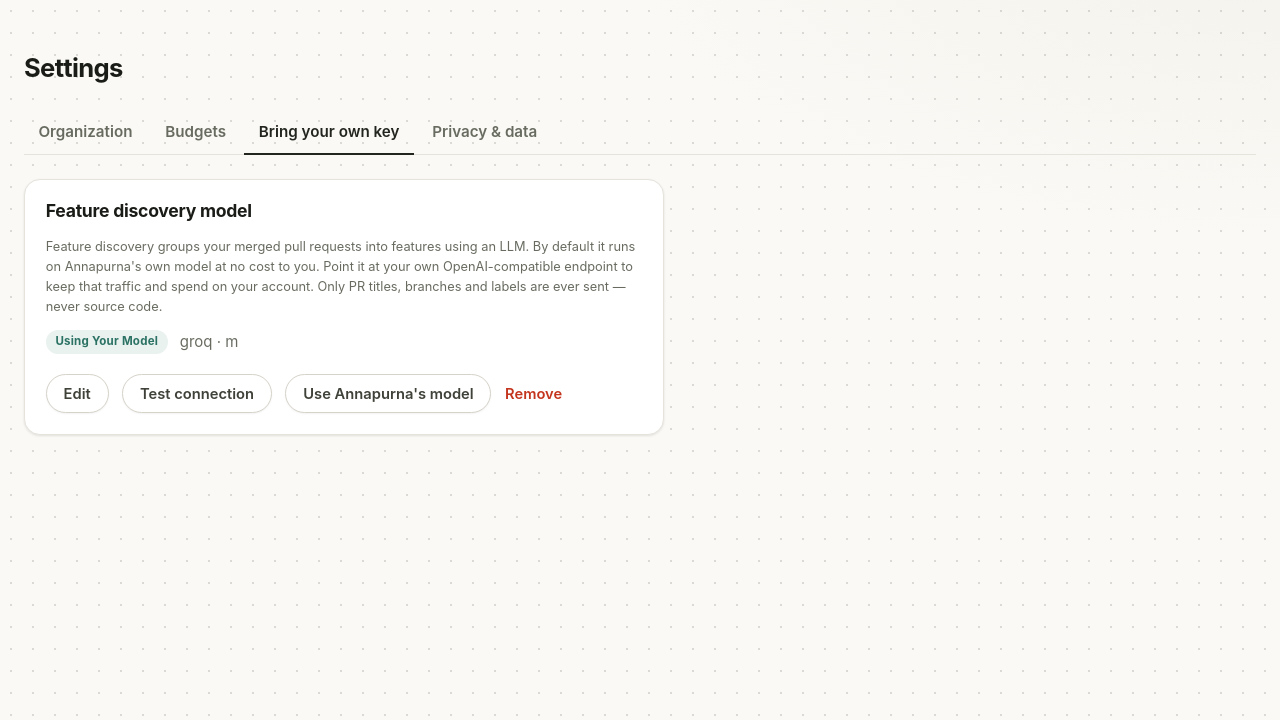
Scenario: Feature discovery model (BYOK) › can switch back to Annapurna's model without discarding the config
Click the button "Use Annapurna's model" at [388, 394], box [285,374,491,413]
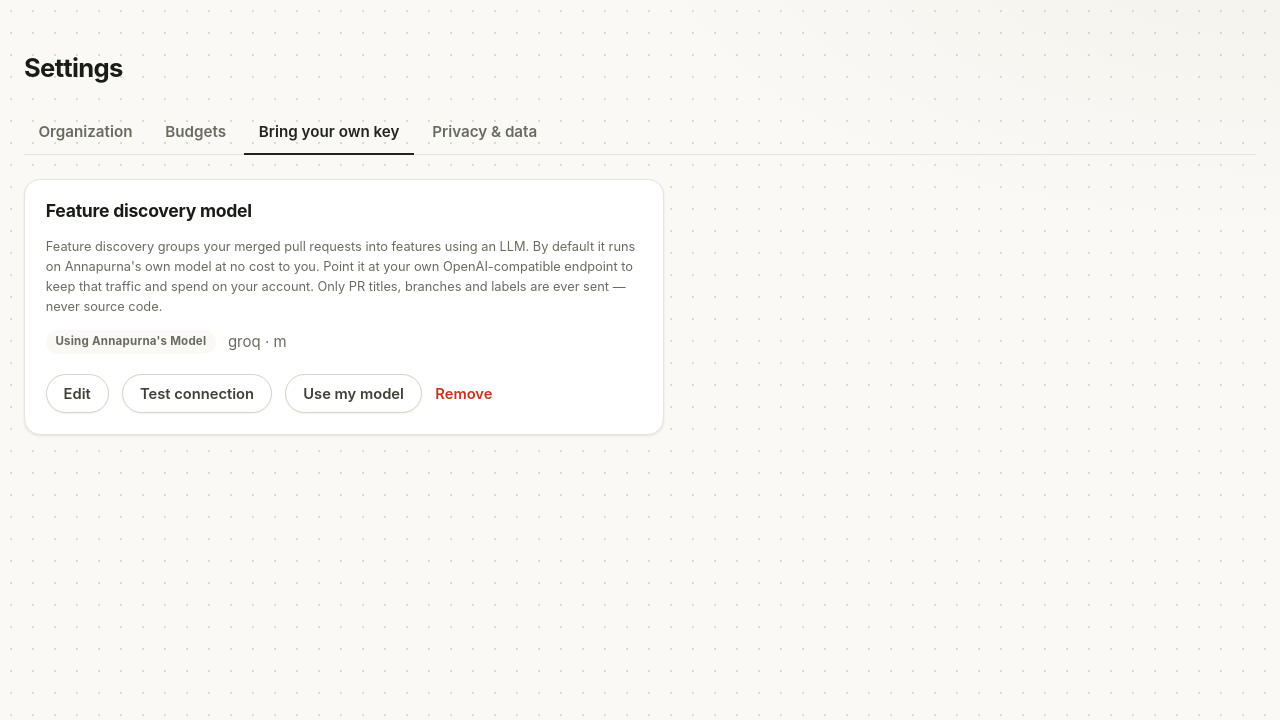
Expected: the text "Using Annapurna's model" is shown, [46,330,216,354]
Expected: the button "Use my model" is shown, [285,374,422,413]
